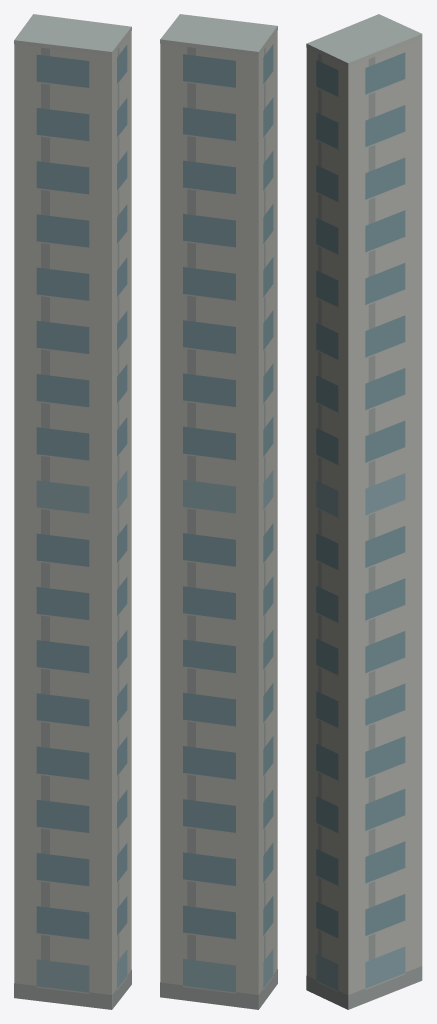
Rendered from survey-upis-32857214.glb.
3 views of the same model, side by side, from view 1: azimuth 30°, elevation 25°; view 2: azimuth 210°, elevation 25°; view 3: azimuth 270°, elevation 25° (orthographic).
Parts seen in each view (by area): view 1: survey-upis-32857214.tmp; view 2: survey-upis-32857214.tmp; view 3: survey-upis-32857214.tmp.
Boxes of the visible parts, bbox=[...] form: survey-upis-32857214.tmp: bbox=[14, 14, 131, 1009]; survey-upis-32857214.tmp: bbox=[160, 14, 277, 1009]; survey-upis-32857214.tmp: bbox=[306, 14, 422, 1009].
Bounding box in the file's own units: 6.13 × 54.9 × 6.1.
